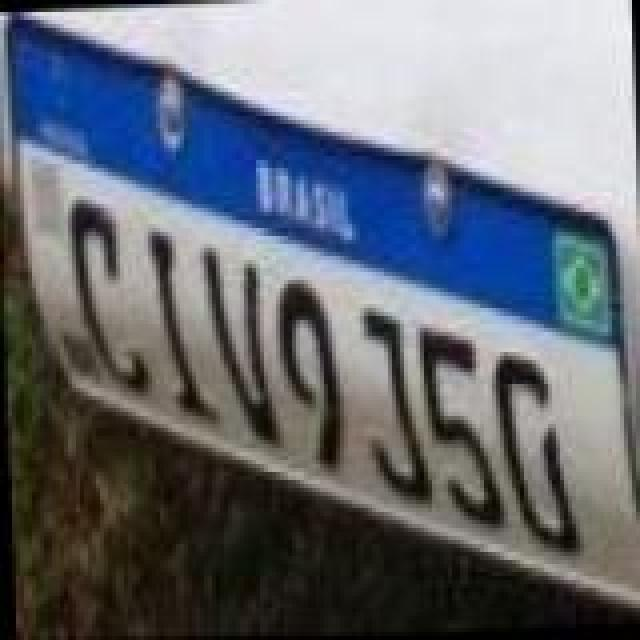5: (416, 324, 500, 536)
9: (272, 272, 344, 472)
C: (64, 194, 148, 410)
D: (490, 344, 582, 564)
I: (146, 224, 218, 428)
J: (360, 304, 436, 516)
V: (198, 238, 278, 450)
